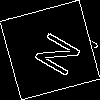N: (25, 25, 82, 79)
